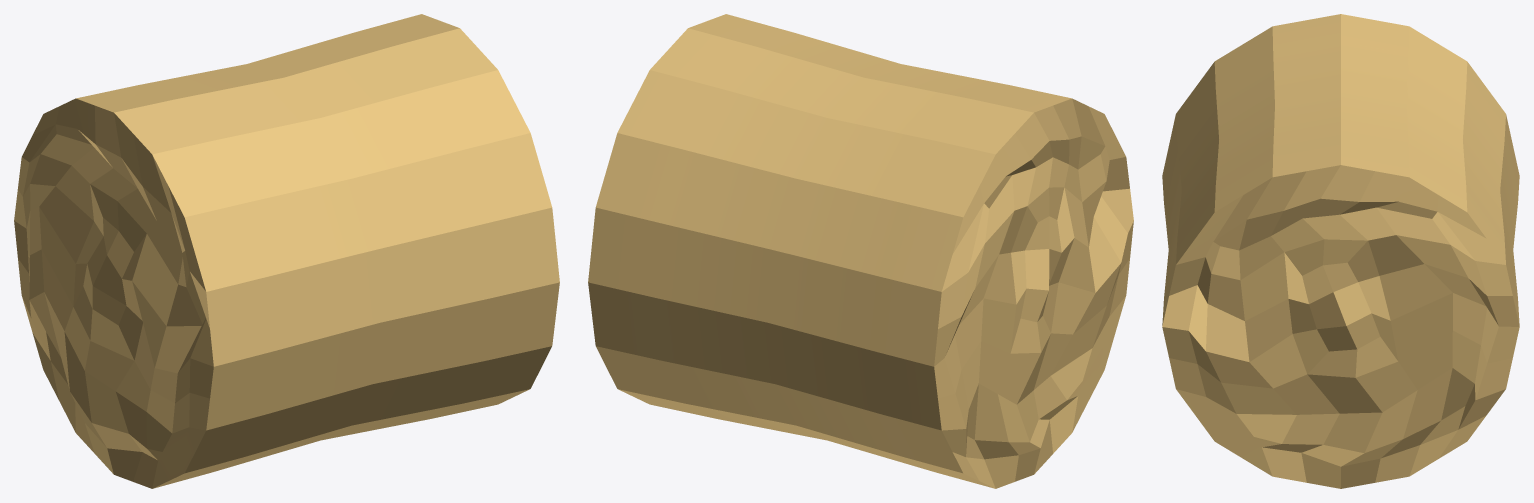
The model's file is hay roll.fbx.
3 views of the same model, side by side, from view 1: azimuth 30°, elevation 25°; view 2: azimuth 150°, elevation 25°; view 3: azimuth 270°, elevation 25° (orthographic). The views are drawn at different scales.
Visible parts, largest first — view 1: Cylinder; view 2: Cylinder; view 3: Cylinder.
Part boxes in pixels (x1=…): Cylinder: x1=14, y1=14, x2=559, y2=488; Cylinder: x1=588, y1=14, x2=1133, y2=488; Cylinder: x1=1162, y1=14, x2=1519, y2=488.
Bounding box in the file's own units: 221 × 200 × 200.
